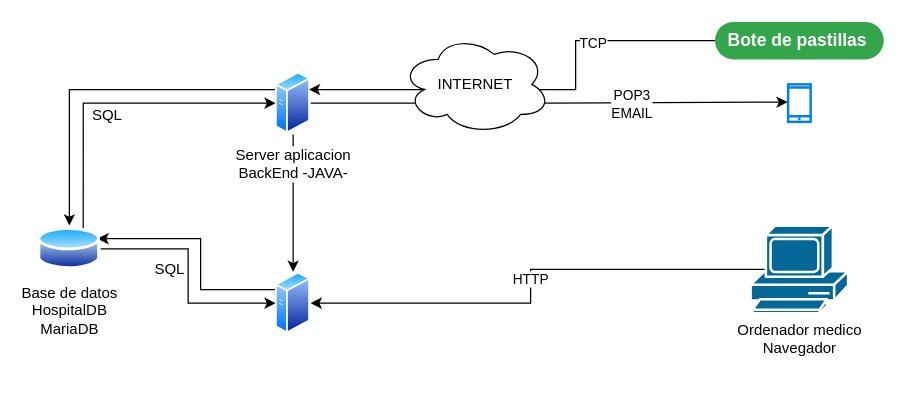
Image size: 905x404. Some labels were removed from this diagram. The shapes that lost their labels are listed below. From the top down, each one's centre as x and y in pixels, then its label:
At (798,102): "Movil paciente".
At (292,302): "Server Web FrontEnd-HTML-CSS-JS-".
